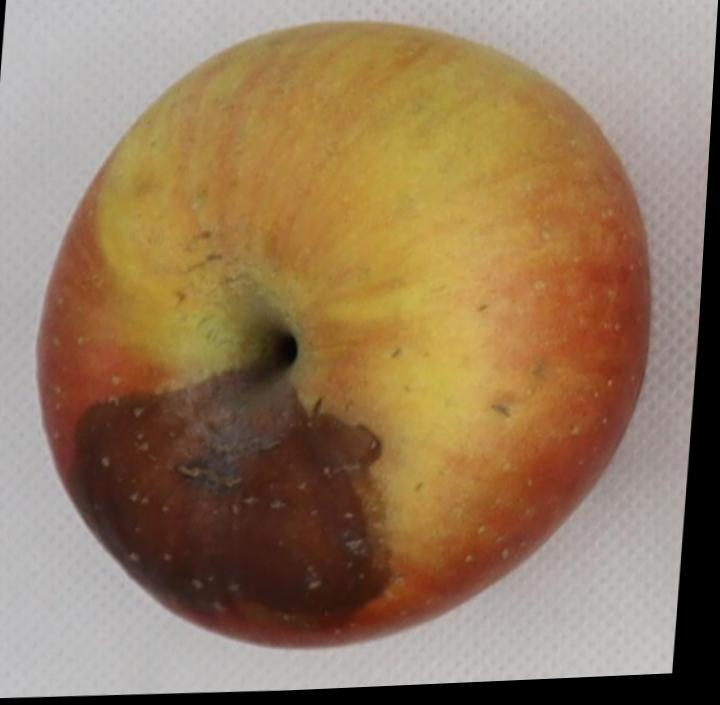apple: (38, 24, 650, 646)
rot_mold_decay: (69, 364, 389, 632)
surface_damage: (188, 253, 223, 271), (491, 404, 510, 417), (200, 230, 214, 238)
